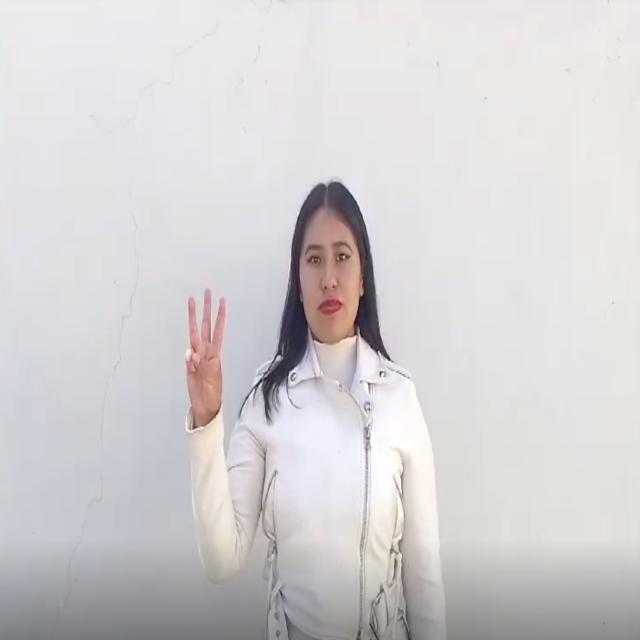W: (171, 278, 240, 436)
